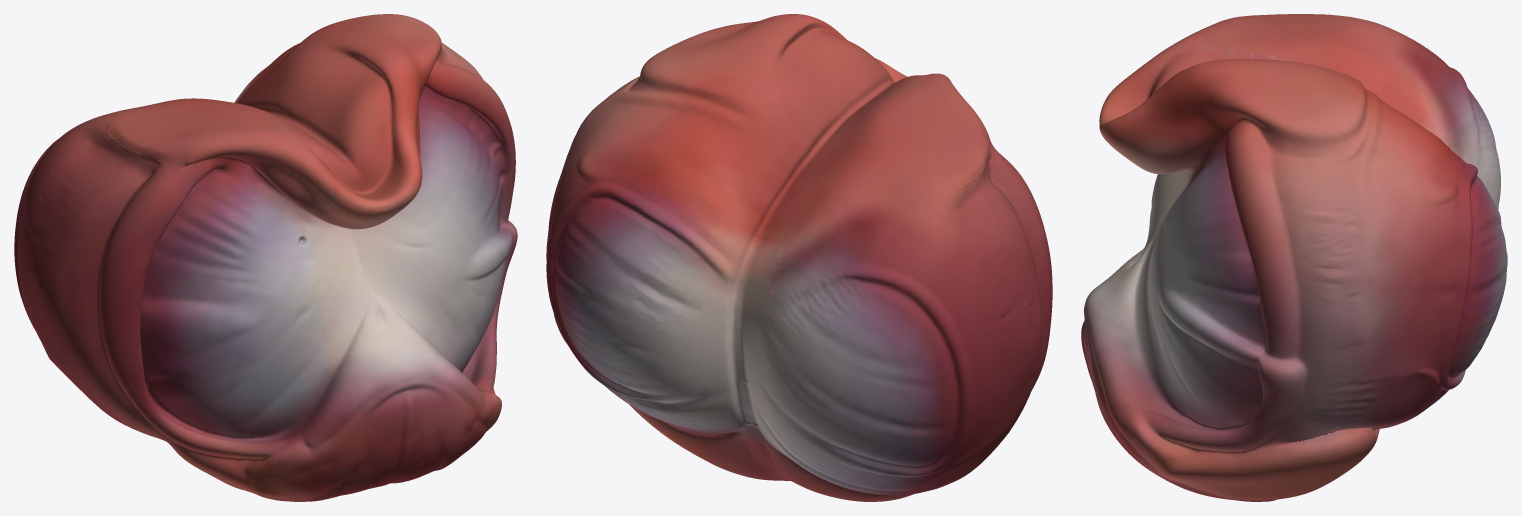
The model's file is gizzard.glb.
3 views of the same model, side by side, from view 1: azimuth 30°, elevation 25°; view 2: azimuth 150°, elevation 25°; view 3: azimuth 270°, elevation 25° (orthographic). The views are drawn at different scales.
Parts seen in each view (by area): view 1: geometry_0.010; view 2: geometry_0.010; view 3: geometry_0.010.
Boxes of the visible parts, x1,y1,x2,y2 form: geometry_0.010: (14,14,517,501); geometry_0.010: (546,14,1052,501); geometry_0.010: (1081,14,1507,501).
Bounding box in the file's own units: 0.1376 × 0.1216 × 0.11.
1 material, 1 textured.
